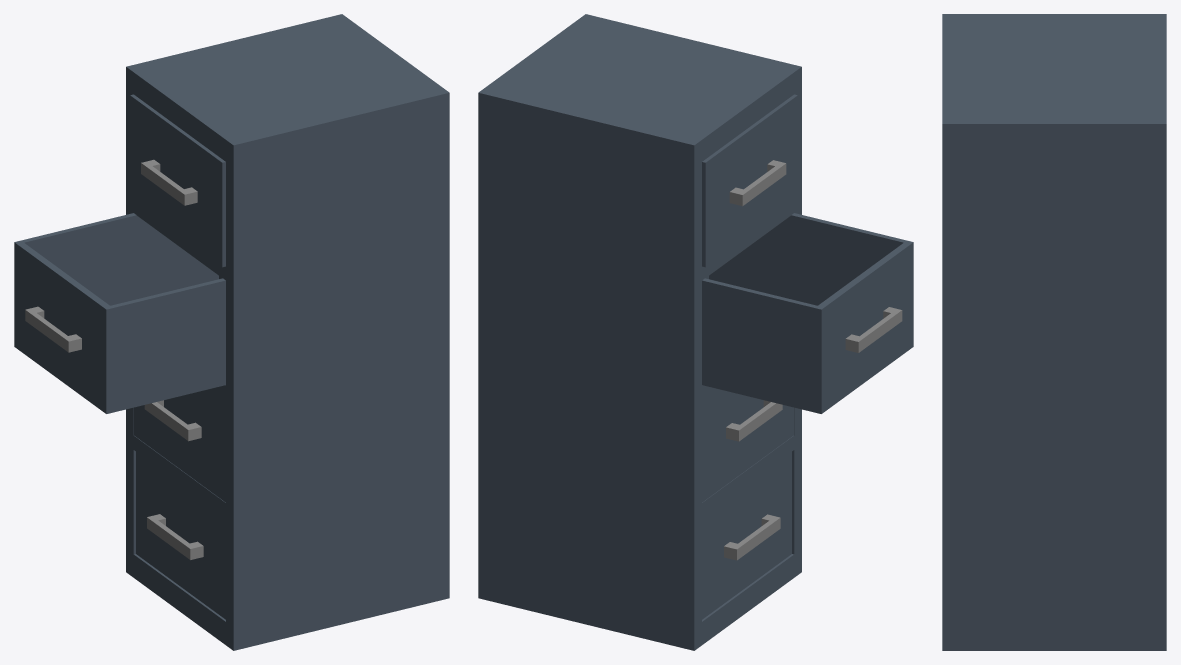
Rendered from cabinet.fbx.
The picture shows the model from 3 angles, left to right: view 1: azimuth 30°, elevation 25°; view 2: azimuth 150°, elevation 25°; view 3: azimuth 270°, elevation 25°; orthographic projection. The views are drawn at different scales.
Parts seen in each view (by area): view 1: cabinet, drawer 2, drawer 1, drawer 4, drawer 3; view 2: cabinet, drawer 2, drawer 1, drawer 4, drawer 3; view 3: cabinet.
Boxes of the visible parts, box(x1,y1,x2,y2) form: cabinet: box(126, 14, 449, 650); drawer 2: box(14, 213, 225, 413); drawer 1: box(130, 94, 225, 267); drawer 4: box(136, 452, 225, 619); drawer 3: box(134, 388, 225, 502); cabinet: box(478, 14, 801, 650); drawer 2: box(702, 213, 913, 413); drawer 1: box(702, 94, 797, 267); drawer 4: box(702, 452, 791, 619); drawer 3: box(702, 388, 793, 502); cabinet: box(942, 14, 1166, 650).
Size of the model in its own units: 86.58 by 120 by 46.24.
